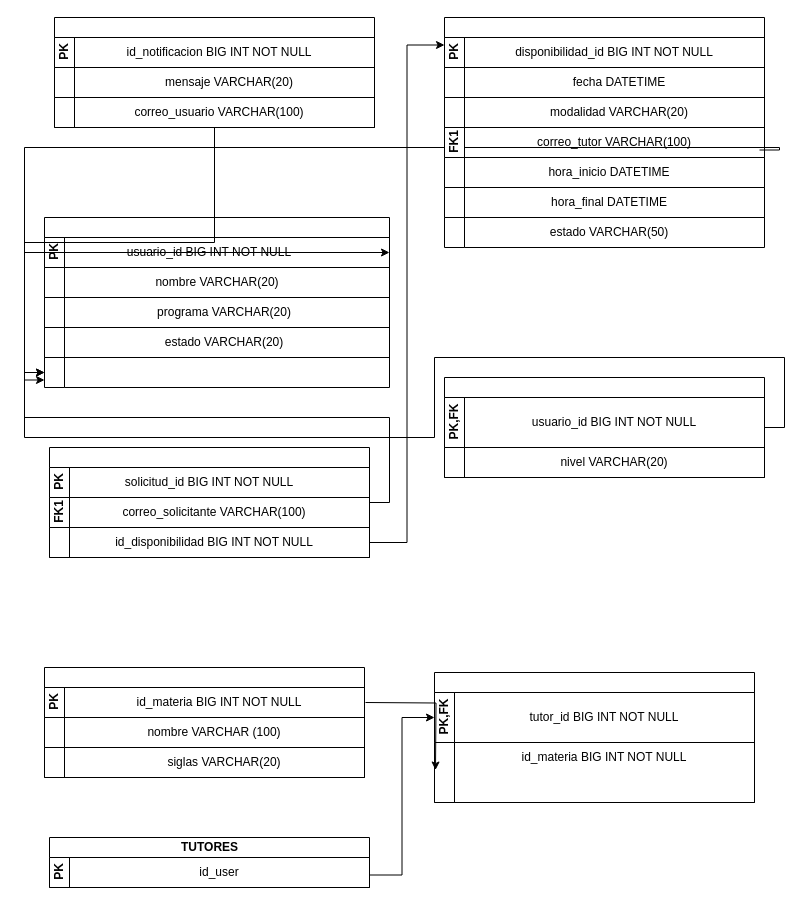
Image size: 810x905. Some labels were removed from this diagram. The box of each missing label's shape, as (x1, y1, x2, y2) in pixels:
correo VARCHAR (50): (44, 356, 390, 388)
DISPONIBILIDADES: (444, 16, 764, 128)
FK: (54, 96, 374, 128)
FK2: (48, 526, 370, 558)
MATERIAS: (44, 666, 364, 778)
NOTIFICACIONES: (54, 16, 374, 128)
PK,FK2: (434, 742, 754, 802)
SOLICITANTES: (444, 376, 764, 478)
SOLICITUDES: (48, 446, 370, 558)
TUTORES_MATERIAS: (434, 672, 754, 802)
USUARIOS: (44, 216, 390, 358)
